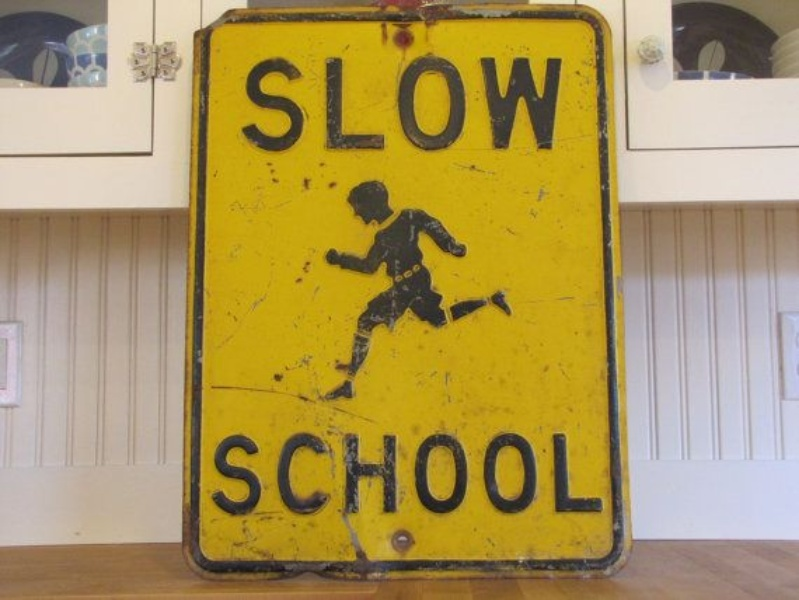text: (241, 54, 256, 153), (257, 54, 272, 153), (273, 54, 288, 153), (289, 54, 304, 153), (305, 54, 320, 153), (321, 54, 336, 153), (337, 54, 352, 153), (353, 54, 368, 153), (369, 54, 384, 153), (385, 54, 400, 153), (401, 54, 416, 153), (417, 54, 432, 153), (433, 54, 448, 153), (449, 54, 464, 153), (465, 54, 480, 153), (481, 54, 496, 153), (497, 54, 512, 153), (513, 54, 528, 153), (529, 54, 544, 153), (545, 54, 560, 153), (225, 429, 240, 518), (241, 429, 256, 518), (257, 429, 272, 518), (273, 429, 288, 518), (289, 429, 304, 518), (305, 429, 320, 518), (321, 429, 336, 518), (337, 429, 352, 518), (353, 429, 368, 518), (369, 429, 384, 518), (385, 429, 400, 518), (401, 429, 416, 518), (417, 429, 432, 518), (433, 429, 448, 518), (449, 429, 464, 518), (465, 429, 480, 518), (481, 429, 496, 518), (497, 429, 512, 518), (513, 429, 528, 518), (529, 429, 544, 518), (545, 429, 560, 518), (561, 429, 576, 518), (577, 429, 592, 518), (211, 429, 224, 518), (593, 429, 605, 518), (561, 54, 564, 153)
